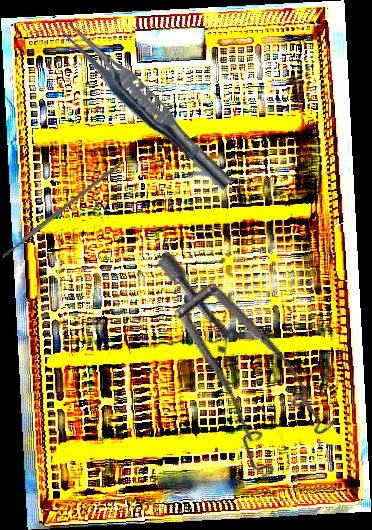Scalpel Handle: (0, 159, 125, 259)
Speculum: (91, 250, 369, 497)
Tissue Forceps: (48, 12, 241, 195)
